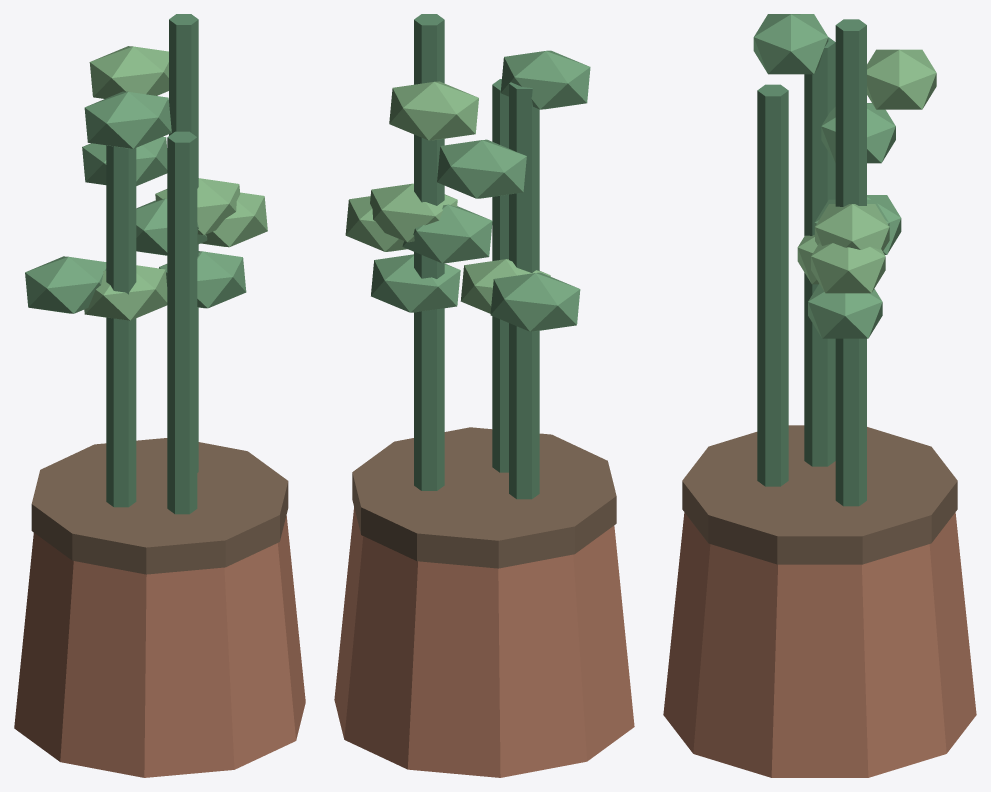
The model's file is planta_manjericao.glb.
The picture shows the model from 3 angles, left to right: view 1: azimuth 30°, elevation 25°; view 2: azimuth 150°, elevation 25°; view 3: azimuth 270°, elevation 25°; orthographic projection. The views are drawn at different scales.
Parts seen in each view (by area): view 1: PLANTA_MANJERICAO; view 2: PLANTA_MANJERICAO; view 3: PLANTA_MANJERICAO.
Part boxes in pixels (bbox=[...]): PLANTA_MANJERICAO: bbox=[14, 14, 305, 777]; PLANTA_MANJERICAO: bbox=[334, 14, 634, 777]; PLANTA_MANJERICAO: bbox=[663, 14, 976, 777].
Size of the model in its own units: 0.1902 by 0.5 by 0.2.
